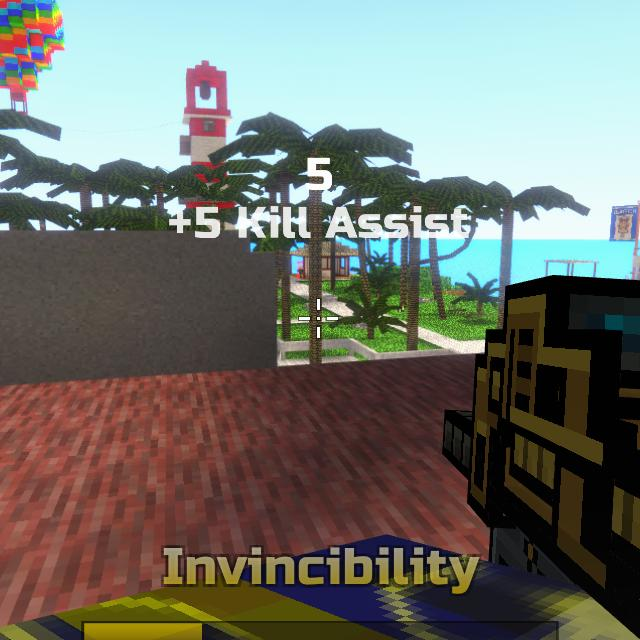Enemy: (297, 266, 304, 278)
